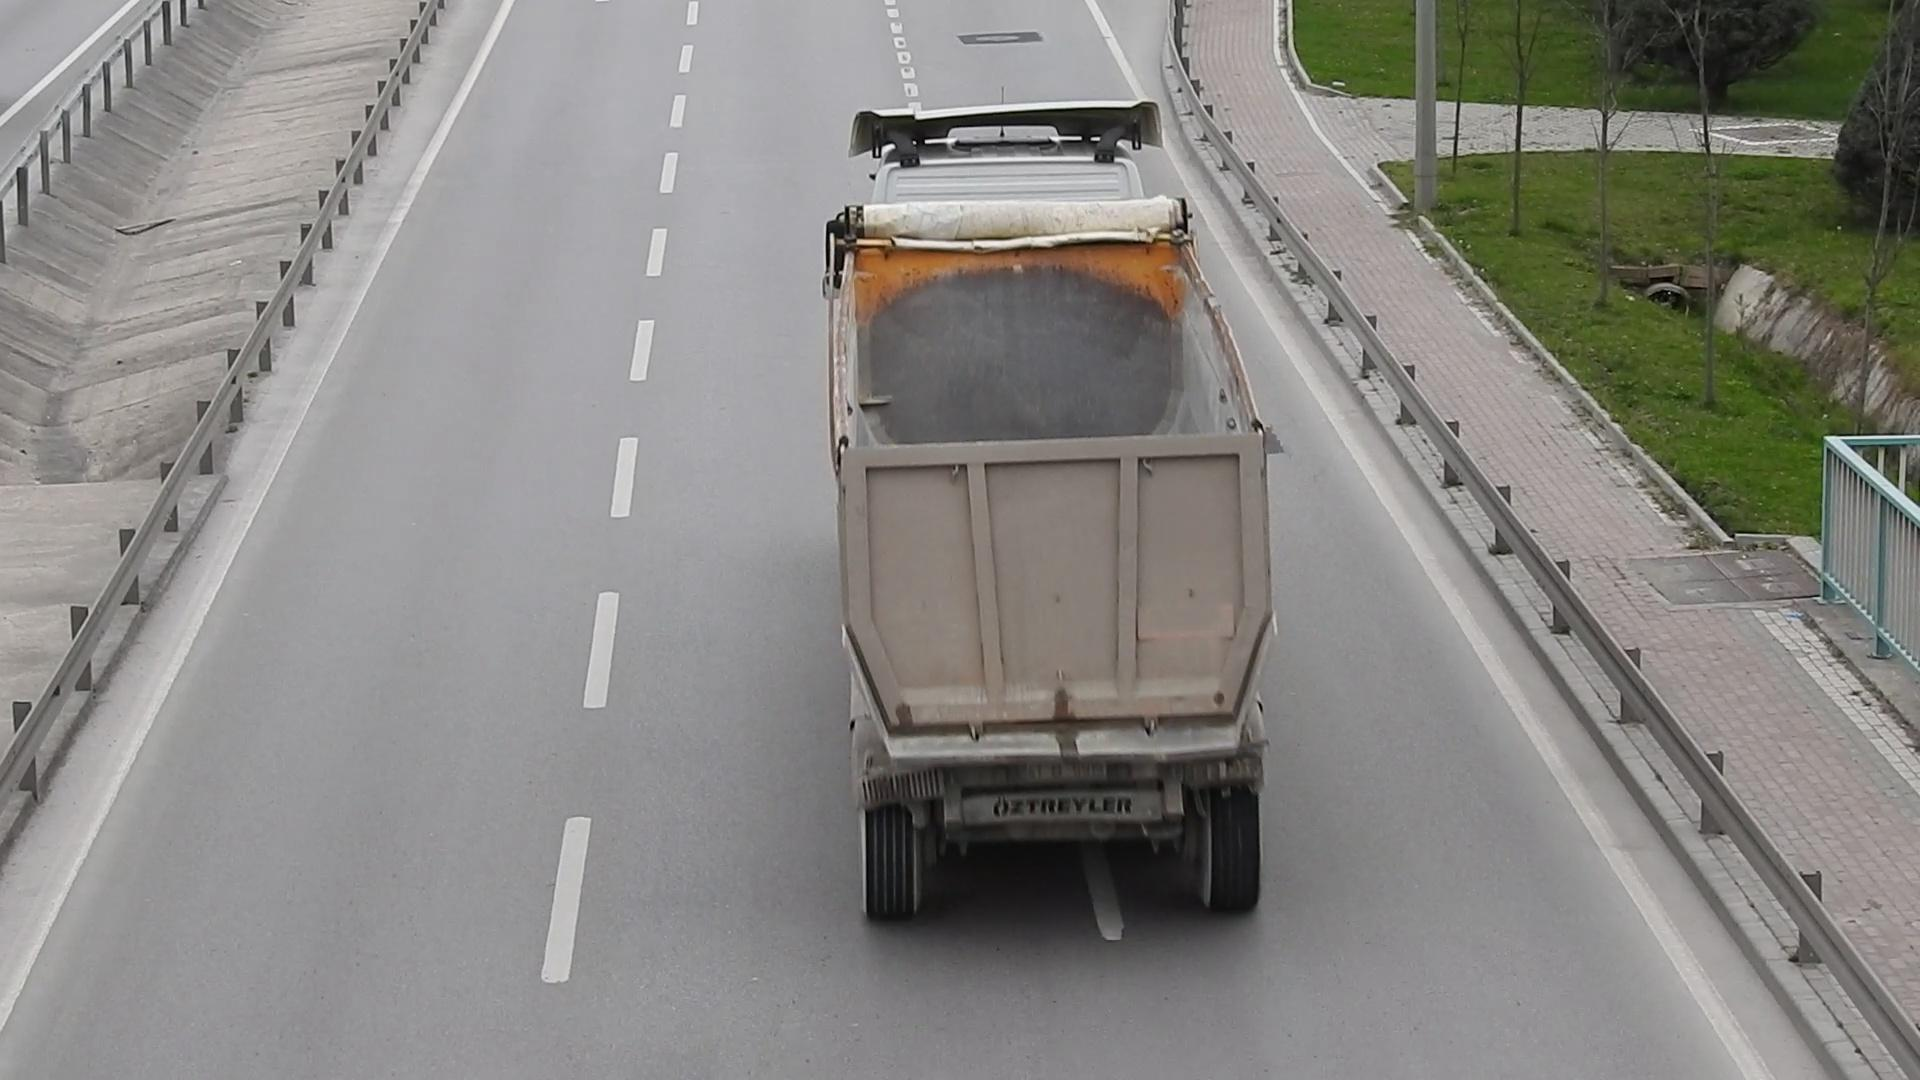Lorry: (808, 96, 1300, 947)
